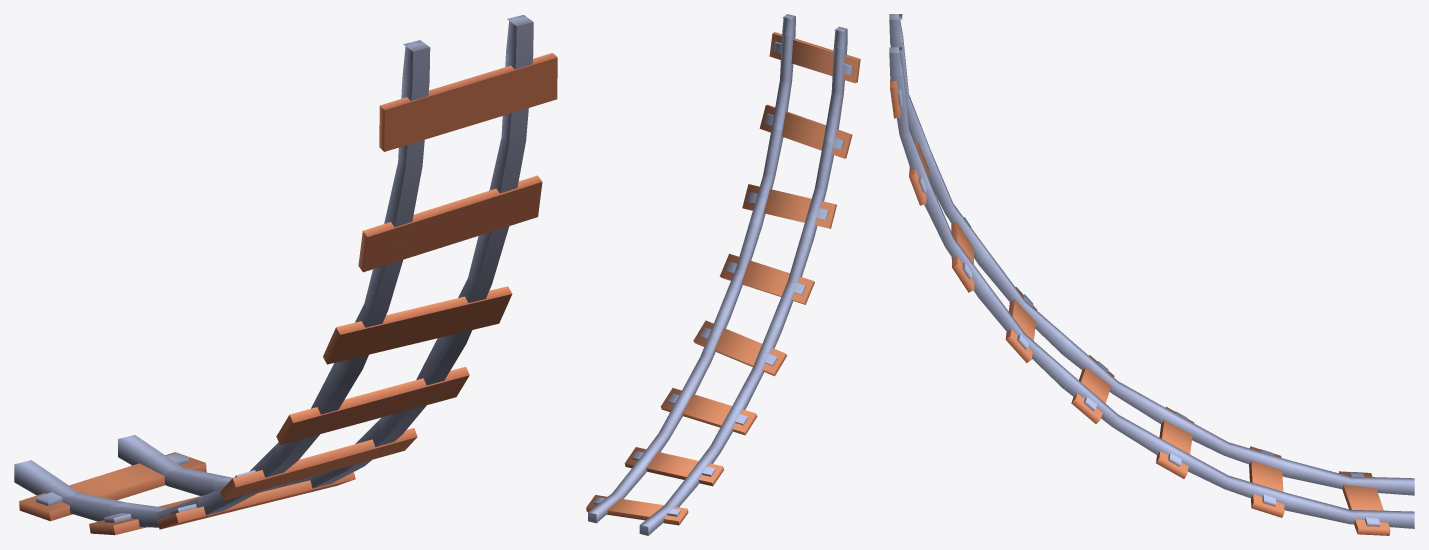
The model's file is kenney-train-railroad-damaged-straight-bend-large.glb.
The picture shows the model from 3 angles, left to right: view 1: azimuth 30°, elevation 25°; view 2: azimuth 150°, elevation 25°; view 3: azimuth 270°, elevation 25°; orthographic projection. The views are drawn at different scales.
Visible parts, largest first — view 1: railroad-damaged-straight-bend-large; view 2: railroad-damaged-straight-bend-large; view 3: railroad-damaged-straight-bend-large.
Boxes of the visible parts, x1,y1,x2,y2 form: railroad-damaged-straight-bend-large: (14,15,557,535); railroad-damaged-straight-bend-large: (586,14,860,535); railroad-damaged-straight-bend-large: (889,14,1414,535).
Size of the model in its own units: 1.03 by 4 by 4.
Materials: 1 (1 with a texture image).
